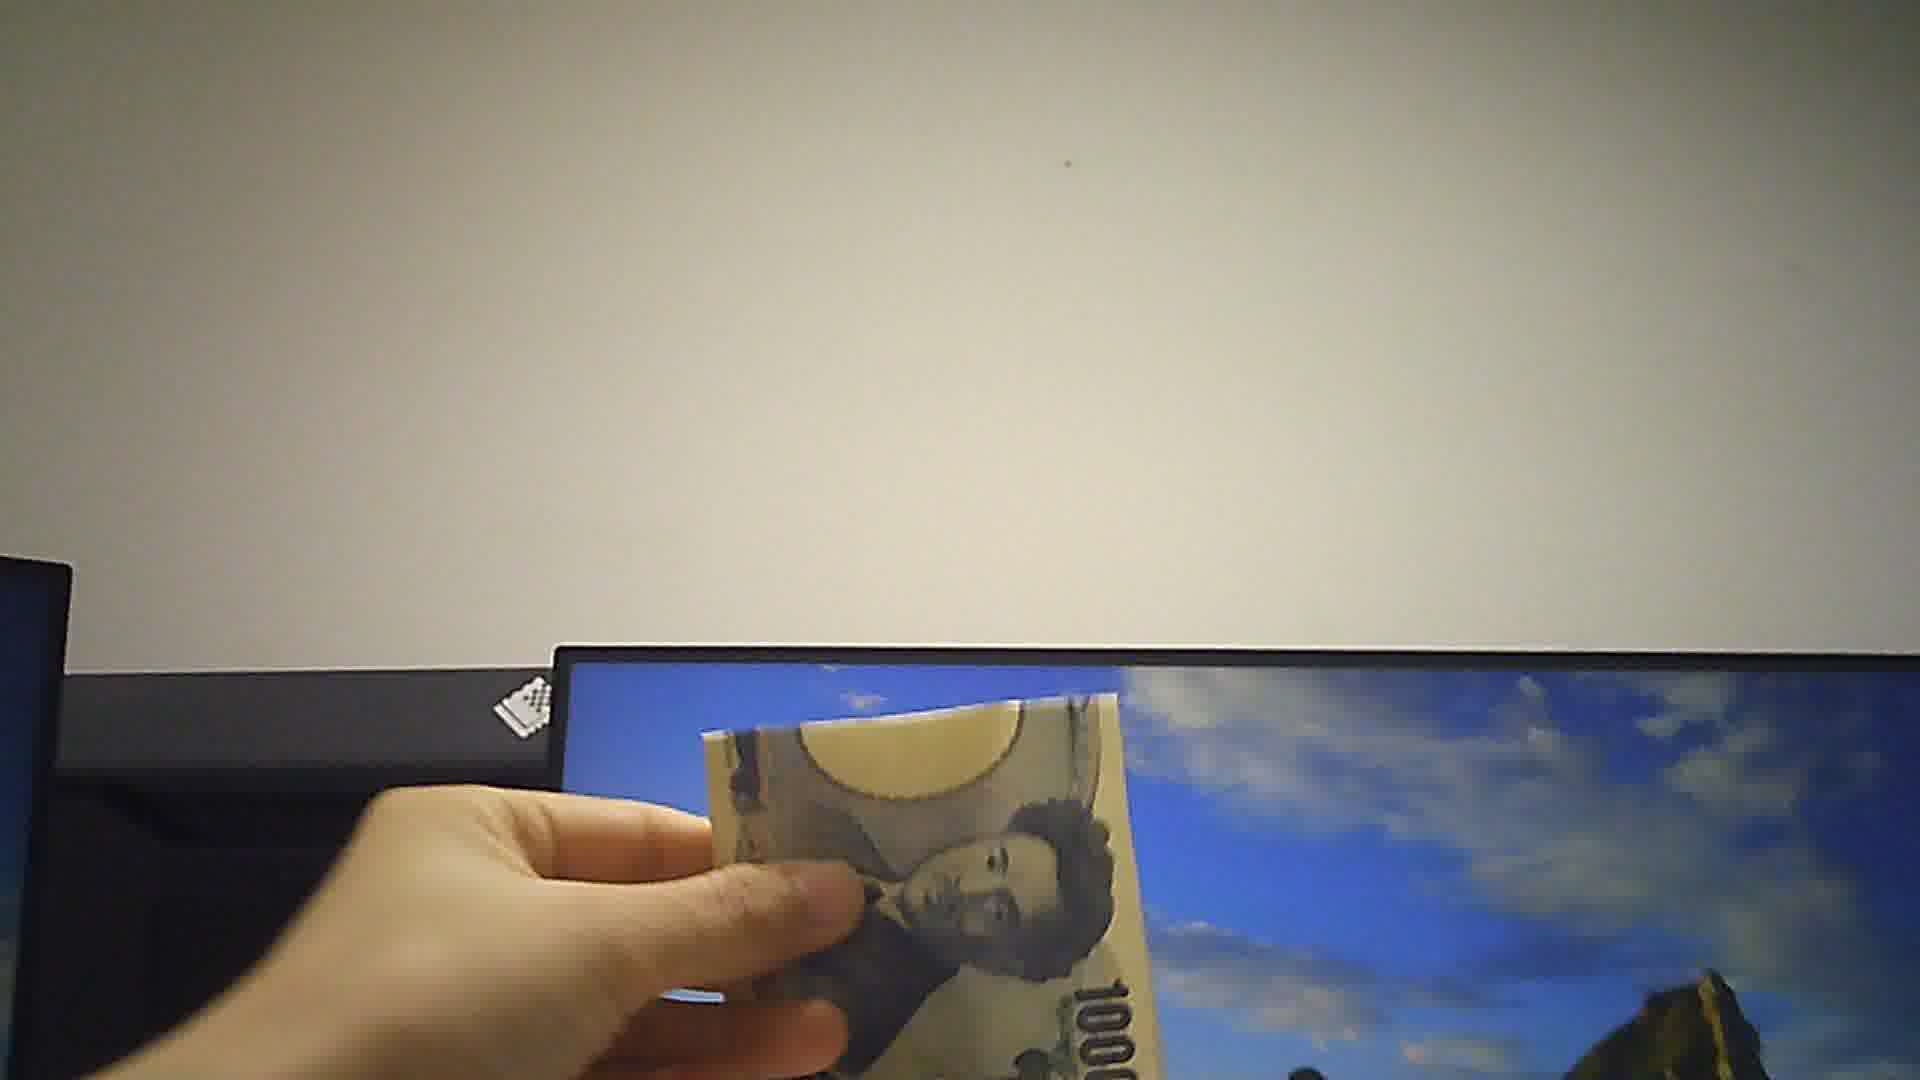1,000 Yen: (700, 687, 1164, 1079)
